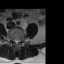CCS_stenosis: (15, 39, 17, 45)
LFS_stenosis: (18, 37, 20, 43)
LLS_severe_stenosis: (17, 38, 19, 44)
RFS_normal: (12, 37, 14, 43)
RLS_stenosis: (14, 38, 15, 44)
